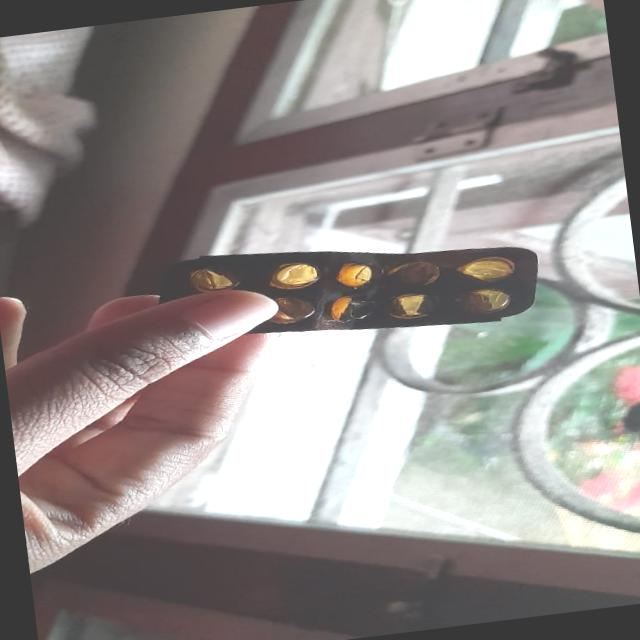Blister_Packs - Non Recyclable: (151, 212, 548, 364)
